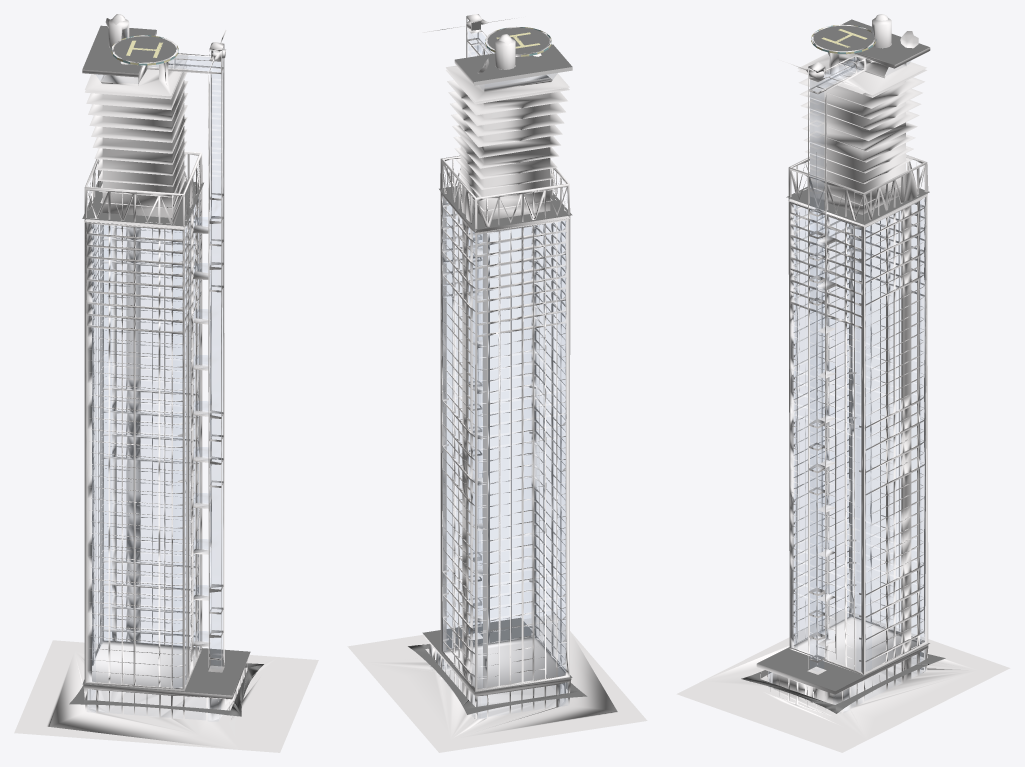
File: gov-2.glb
3 views of the same model, side by side, from view 1: azimuth 30°, elevation 25°; view 2: azimuth 150°, elevation 25°; view 3: azimuth 270°, elevation 25° (orthographic). The views are drawn at different scales.
Parts seen in each view (by area): view 1: part_01, part_03, part_00, part_04, part_02; view 2: part_03, part_01, part_00, part_04, part_02; view 3: part_01, part_03, part_00, part_02, part_04.
Part boxes in pixels (x1,y1,x2,y2): part_01: (14,14,318,752); part_03: (84,18,226,689); part_00: (96,75,198,656); part_04: (69,25,263,716); part_02: (151,55,220,665); part_03: (422,18,572,691); part_01: (347,14,647,752); part_00: (444,73,556,688); part_04: (408,21,587,714); part_02: (443,32,566,700); part_01: (676,14,1010,752); part_03: (780,18,926,674); part_00: (798,61,916,665); part_02: (769,58,923,682); part_04: (741,19,945,713).
Size of the model in its own units: 380 by 806 by 374.
